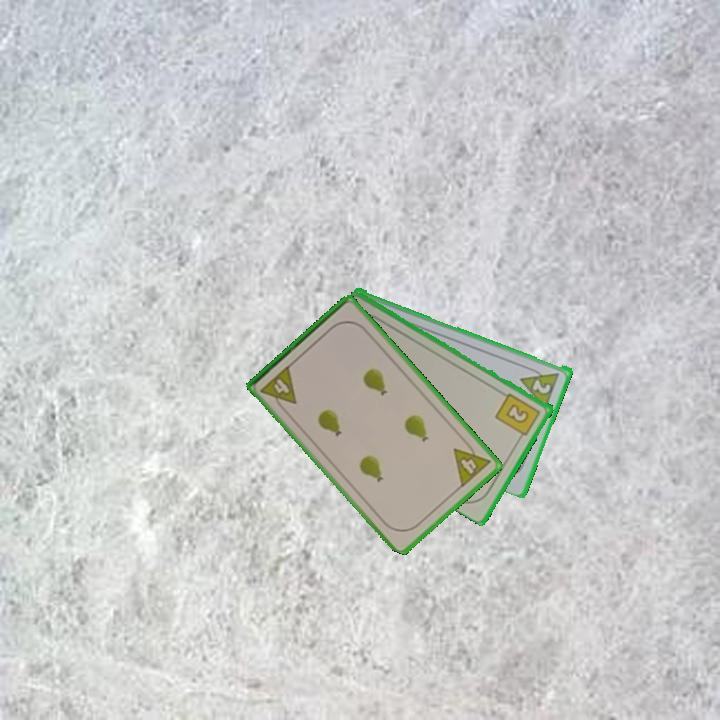2b: (492, 389, 543, 443)
2p: (517, 362, 563, 410)
4p: (450, 436, 494, 490), (257, 361, 300, 415)
